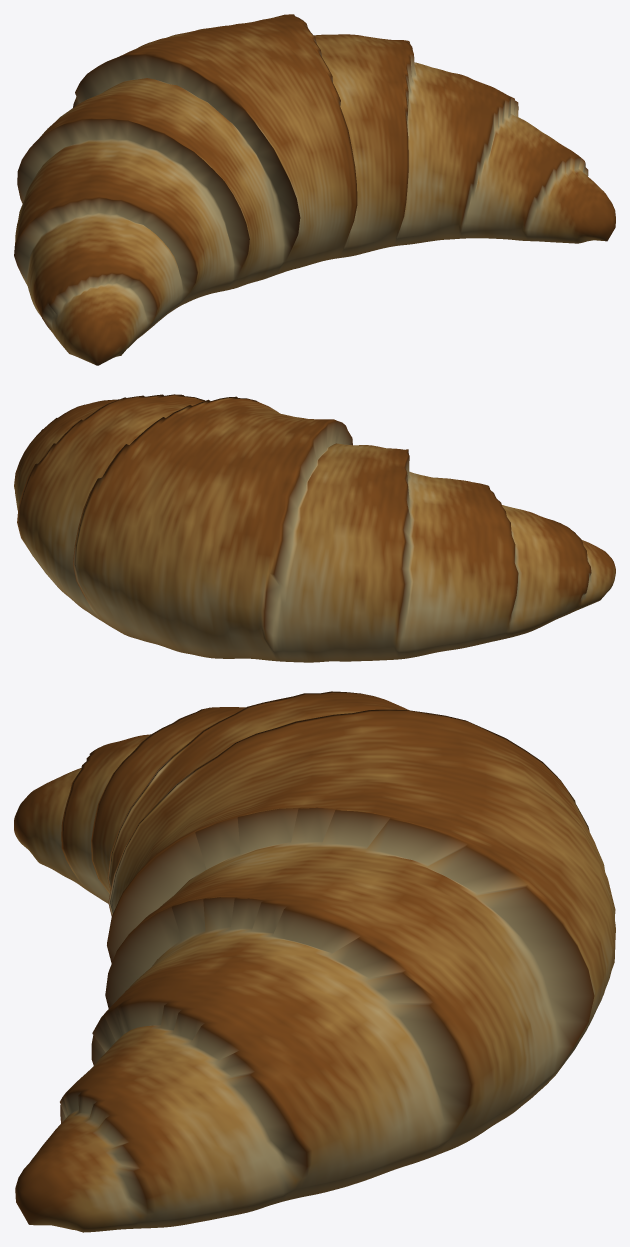
Rendered from croissant.glb.
The picture shows the model from 3 angles, top to bottom: view 1: azimuth 30°, elevation 25°; view 2: azimuth 150°, elevation 25°; view 3: azimuth 270°, elevation 25°; orthographic projection. The views are drawn at different scales.
Visible parts, largest first — view 1: croissant; view 2: croissant; view 3: croissant.
Boxes of the visible parts, <box> form: croissant: <box>14,14,615,365</box>; croissant: <box>14,394,615,662</box>; croissant: <box>14,691,615,1232</box>.
Bounding box in the file's own units: 0.16 × 0.05 × 0.1.
